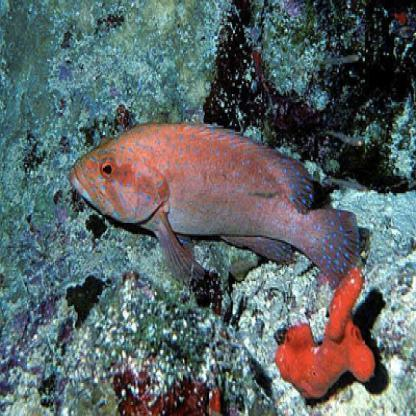Bio: (69, 114, 361, 288)
